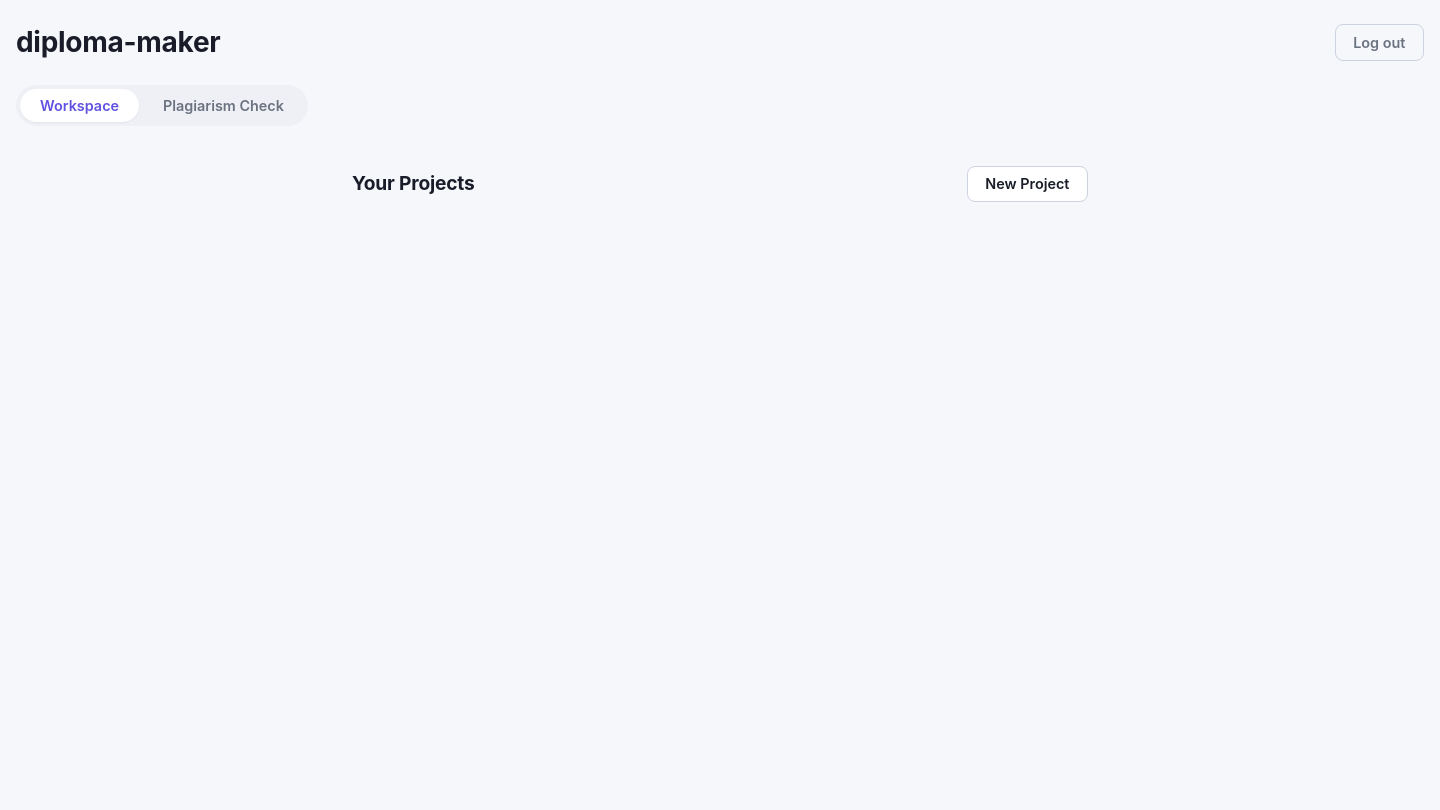
Test case: App › renders both the chat panel and the document panel once a project is entered
Click the button "New Project": [1027, 184] box [967,166,1088,202]
(page scrolled)
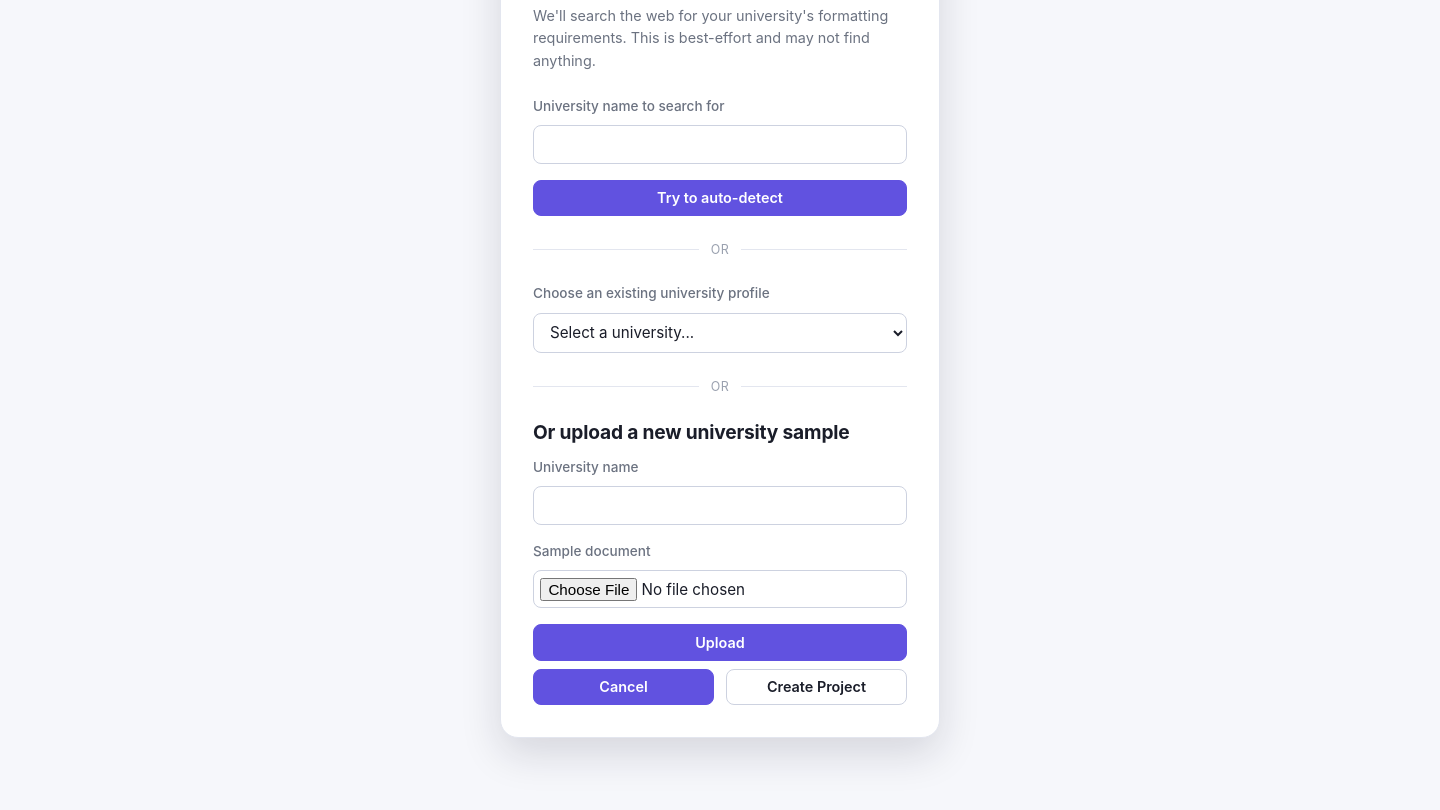
Click the button "Create Project": [816, 687] box [726,668,907,705]
(page scrolled)
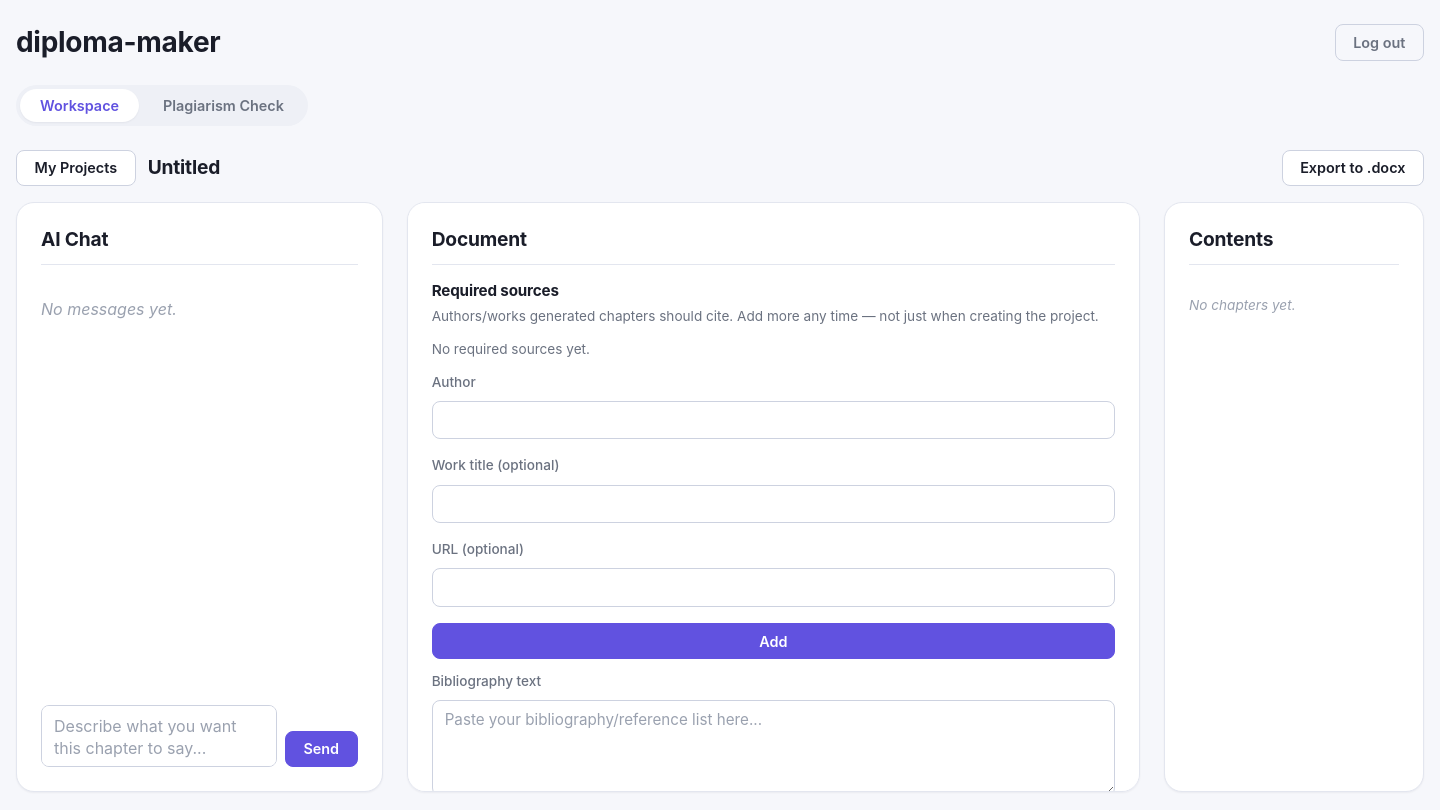
Result: the element labelled "AI Chat" is shown at [16,202,383,792]
Result: the element labelled "Document" is shown at [407,202,1140,792]
